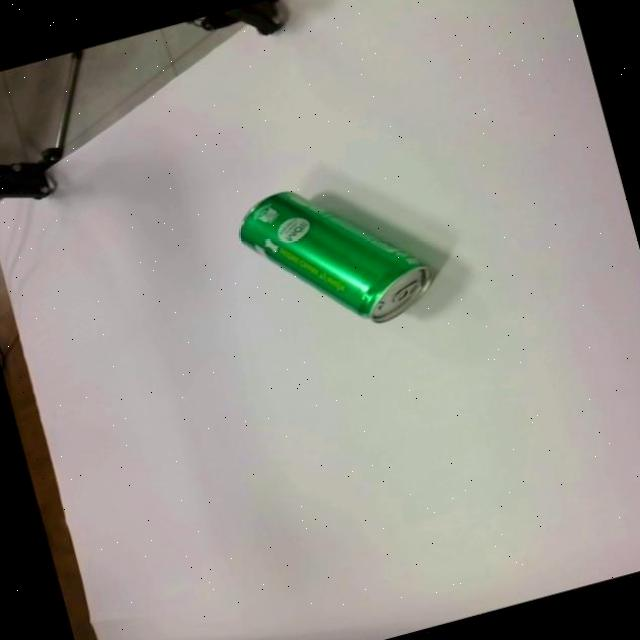debris: (228, 157, 442, 354)
